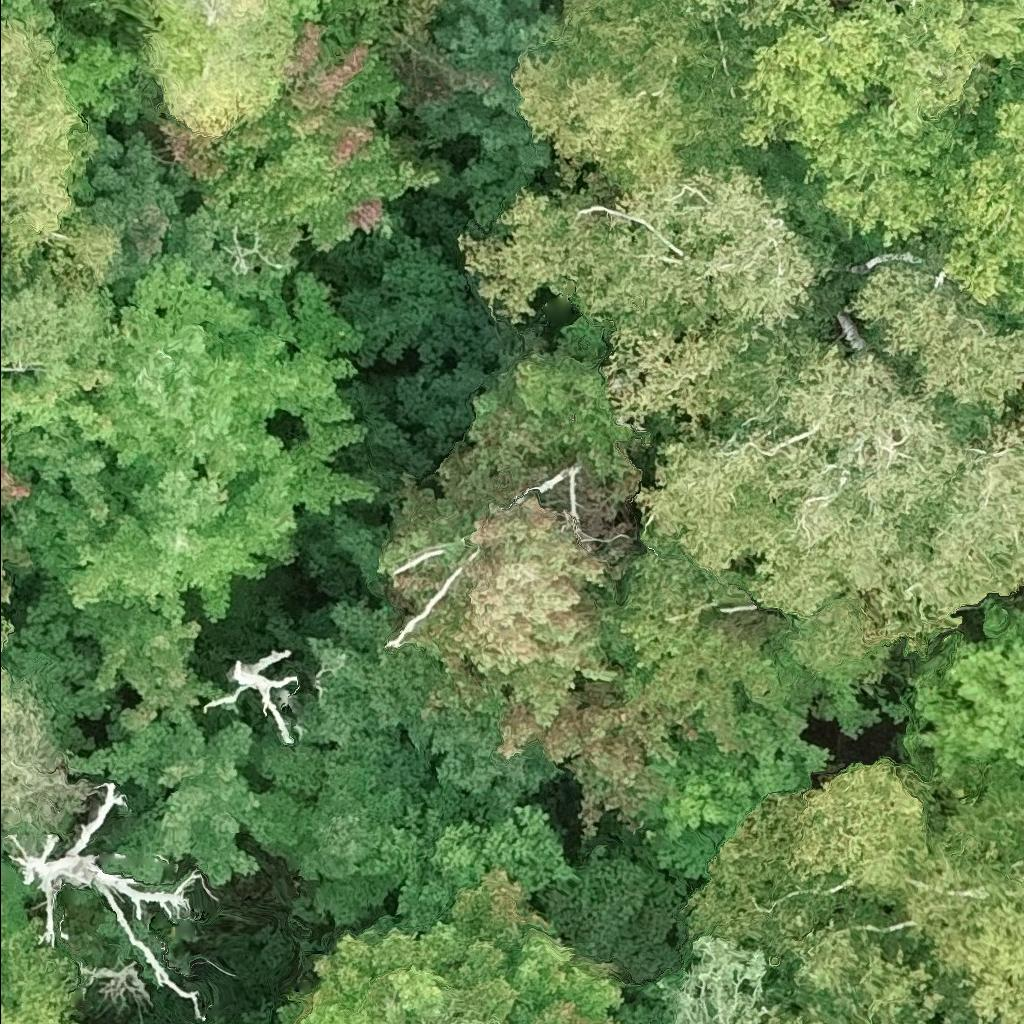crown: (0, 255, 384, 710), (459, 0, 838, 444), (386, 313, 693, 716), (660, 348, 1023, 650), (166, 18, 442, 286), (732, 0, 1023, 247), (684, 789, 959, 1023), (610, 461, 903, 679), (792, 759, 1023, 1023), (290, 608, 569, 815), (278, 864, 622, 1023), (7, 786, 199, 1013), (80, 705, 280, 900), (839, 245, 1023, 438), (0, 14, 124, 285), (603, 605, 826, 753), (501, 672, 691, 832), (374, 787, 571, 928), (937, 53, 1023, 329), (10, 558, 140, 738), (143, 0, 303, 141), (640, 749, 810, 879), (905, 609, 1023, 796), (0, 661, 86, 873), (259, 738, 387, 880), (0, 260, 115, 387), (0, 872, 85, 1023), (77, 137, 180, 257), (645, 945, 767, 1023), (315, 0, 452, 64), (209, 647, 297, 741), (57, 46, 138, 117), (678, 0, 782, 55), (751, 1000, 853, 1023), (0, 0, 52, 27), (0, 575, 11, 665)
